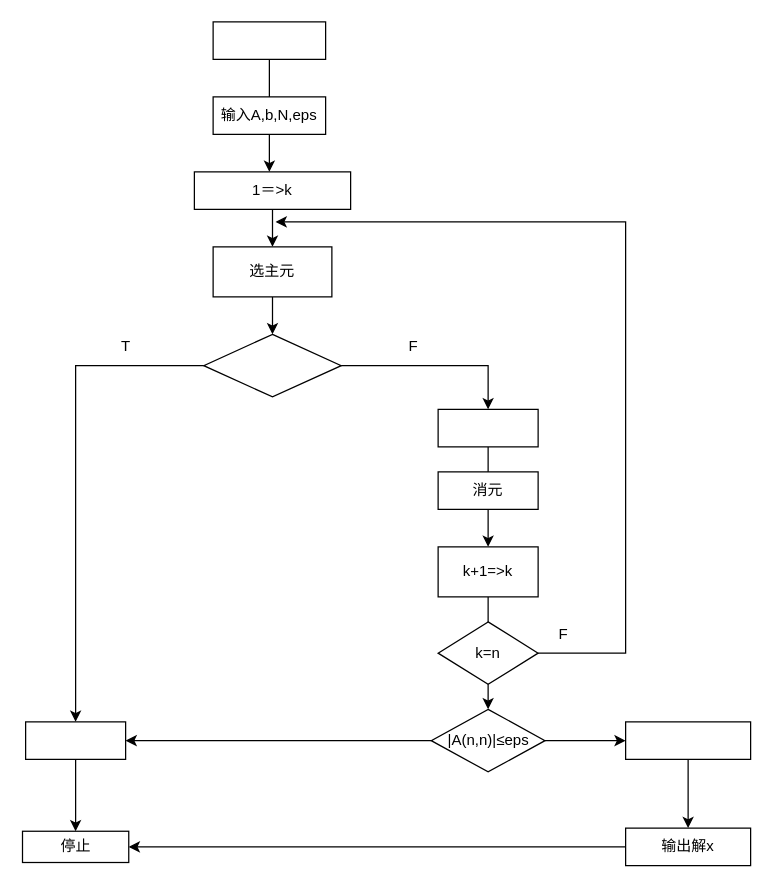
Image size: 773x888. Some labels were removed from this diagram. The centre of each missing label's shape, as x and y in pixels:
|P|≤eps: (x=271, y=365)
回代求解: (x=687, y=740)
开始: (x=269, y=40)
换行: (x=487, y=427)
输出无解信息: (x=75, y=740)
